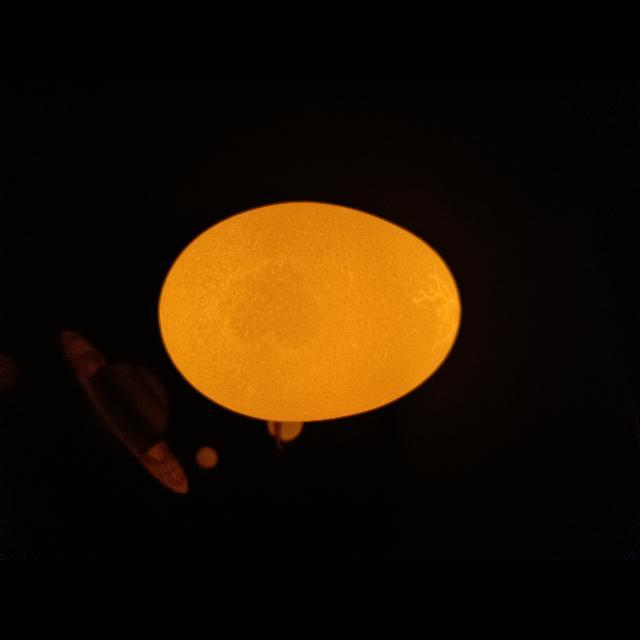AA - Premium: (159, 203, 461, 421)
